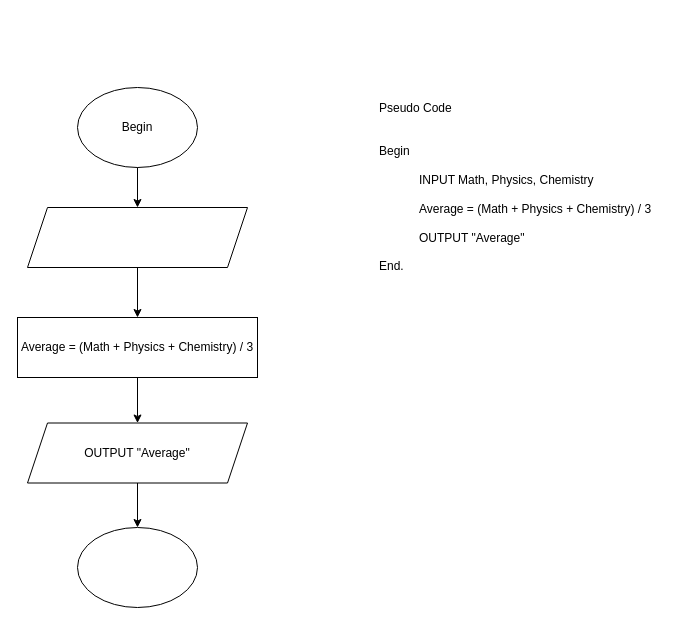
The diagram is 685 pixels wide and 625 high, and some of its shapes have lost their labels. The box of each missing label's shape, as (x1, y1, x2, y2) in pixels:
End: (76, 526, 198, 608)
INPUT Math, Physics, Chemistry: (26, 206, 248, 268)
